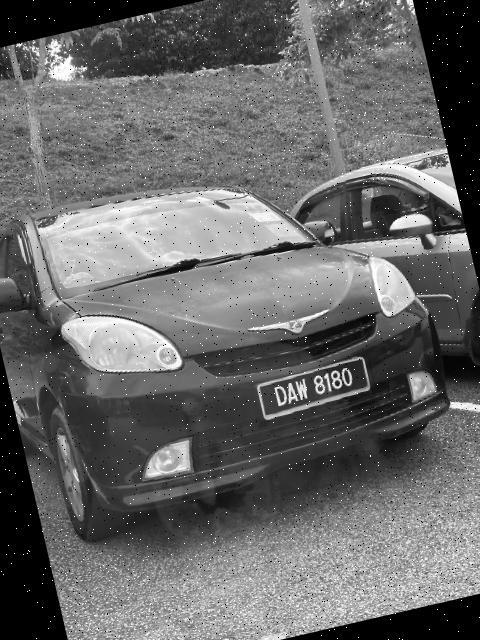DAW8180: (253, 355, 379, 424)
License_Plate: (253, 355, 379, 424)
car: (1, 117, 472, 550)
